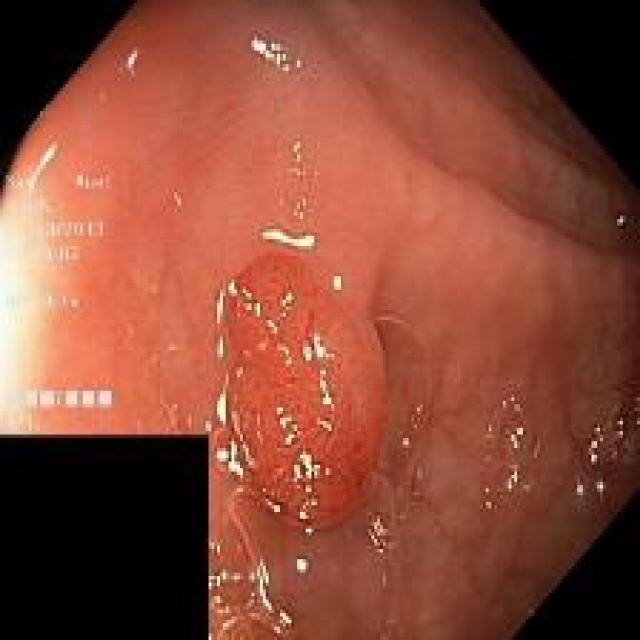Polyps: (216, 255, 386, 531)
